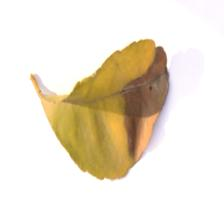black spot: (126, 53, 183, 136)
